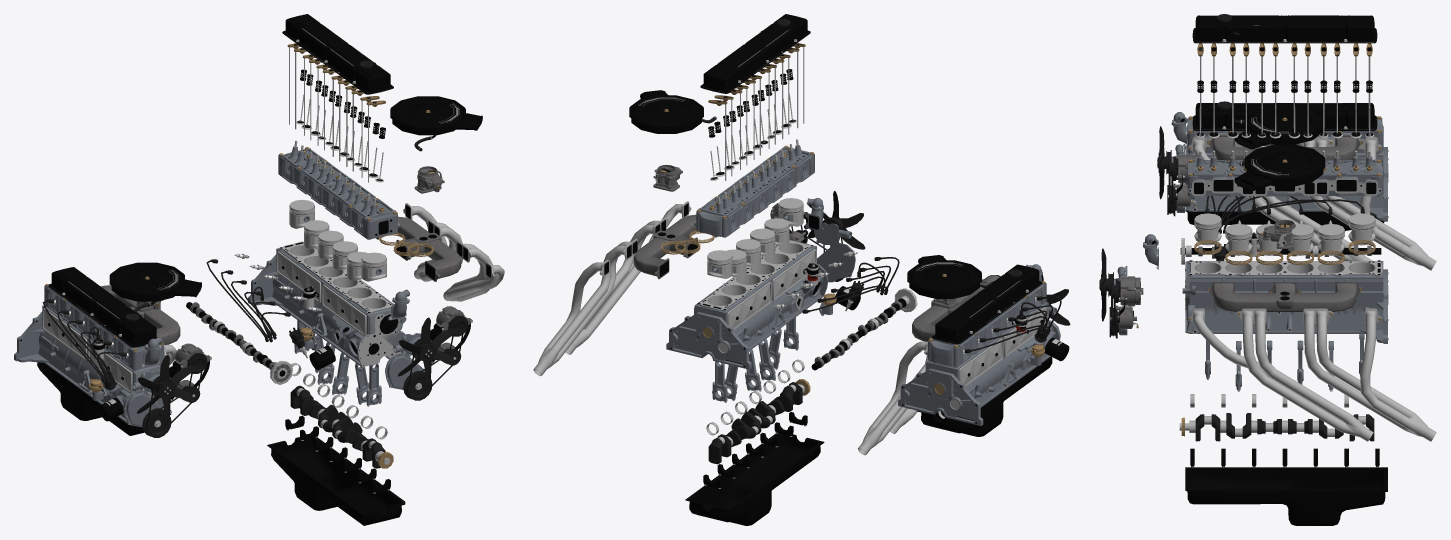
Rendered from tcc-fundamentos_motor.glb.
3 views of the same model, side by side, from view 1: azimuth 30°, elevation 25°; view 2: azimuth 150°, elevation 25°; view 3: azimuth 270°, elevation 25° (orthographic). The views are drawn at different scales.
Visible parts, largest first — view 1: motor, bloco, carter, cabecote, polias, tampa_valvula, pistao, panela, coletor_escape, virabrequim, coletor_admissao, biela (+9 smaller); view 2: motor, bloco, carter, coletor_escape, cabecote, tampa_valvula, pistao, polias, panela, virabrequim, biela, coletor_admissao (+9 smaller); view 3: motor, bloco, coletor_escape, carter, cabecote, tampa_valvula, pistao, coletor_admissao, panela, virabrequim, polias, aneis (+10 smaller).
Boxes of the visible parts, x1,y1,x2,y2 form: motor: (14,262,211,437); bloco: (248,241,406,367); carter: (267,437,405,525); cabecote: (278,140,399,239); polias: (385,306,472,400); tampa_valvula: (282,14,393,94); pistao: (289,199,386,281); panela: (390,96,482,151); coletor_escape: (403,203,504,301); virabrequim: (290,385,393,468); coletor_admissao: (376,216,461,281); biela: (294,320,381,406); motor: (858,255,1070,455); bloco: (666,239,828,369); carter: (685,433,824,525); coletor_escape: (533,201,691,375); cabecote: (694,139,814,237); tampa_valvula: (700,14,810,93); pistao: (707,198,803,278); polias: (770,191,865,282); panela: (629,90,716,133); virabrequim: (708,379,810,464); biela: (712,317,798,402); coletor_admissao: (633,214,717,279); motor: (1157,101,1436,270); bloco: (1182,260,1388,343); coletor_escape: (1188,308,1436,441); carter: (1185,467,1387,525); cabecote: (1187,150,1383,196); tampa_valvula: (1192,14,1377,43); pistao: (1194,213,1375,255); coletor_admissao: (1207,281,1362,311); panela: (1234,144,1325,191); virabrequim: (1179,413,1374,441); polias: (1099,248,1143,338); aneis: (1194,240,1375,265).
Bounding box in the file's own units: 1.84 × 1.92 × 1.17.
7 materials, 7 textured.
